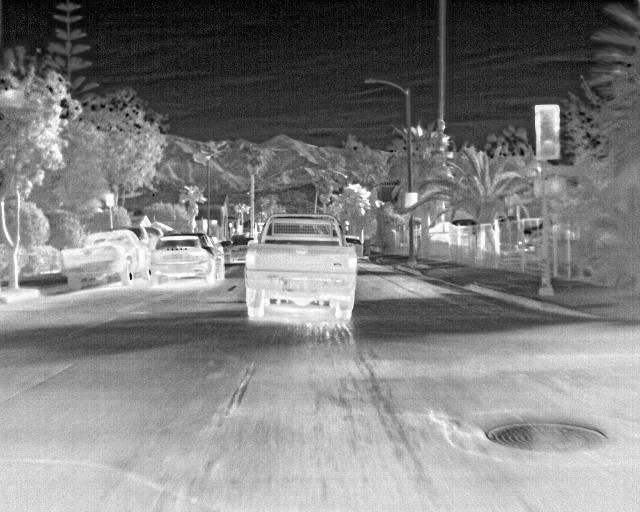car: (244, 213, 358, 319), (59, 229, 151, 290), (150, 232, 225, 285), (127, 226, 160, 251), (229, 237, 255, 263), (346, 237, 363, 258), (212, 236, 224, 255), (221, 240, 233, 256)
light: (539, 108, 558, 156), (544, 176, 566, 197), (260, 226, 262, 231)
sign: (405, 193, 418, 208), (106, 194, 114, 206), (190, 221, 196, 228), (345, 221, 349, 225), (258, 223, 264, 225), (346, 227, 348, 230)
